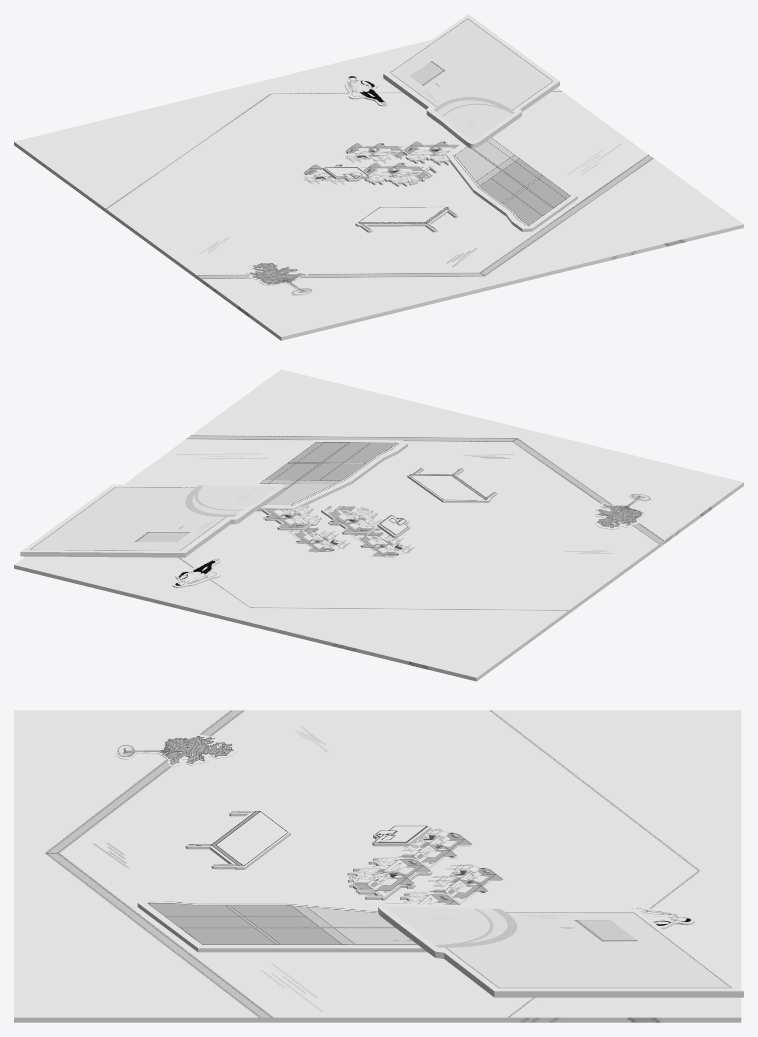
3 renders of one model, top to bottom at view 1: azimuth 30°, elevation 25°; view 2: azimuth 150°, elevation 25°; view 3: azimuth 270°, elevation 25°, orthographic. The views are drawn at different scales.
Visible parts, largest first — view 1: 平面, Curve.006, Curve, Curve.001, Curve.008, 树2.001, Curve.010, Curve.011, 人物1, Curve.002, Curve.009; view 2: 平面, Curve.006, Curve, Curve.001, Curve.008, 树2.001, Curve.011, Curve.010, Curve.009, 人物1, Curve.002; view 3: 平面, Curve.006, Curve, Curve.001, Curve.008, 树2.001, Curve.010, Curve.009, Curve.002, 人物1, Curve.011.
Part boxes in pixels (left/top/right/bottom): 平面: left=14, top=40, right=743, bottom=340; Curve.006: left=383, top=14, right=559, bottom=148; Curve: left=446, top=135, right=577, bottom=231; Curve.001: left=355, top=206, right=458, bottom=232; Curve.008: left=363, top=162, right=437, bottom=186; 树2.001: left=246, top=261, right=314, bottom=295; Curve.010: left=343, top=142, right=408, bottom=163; Curve.011: left=403, top=141, right=460, bottom=165; 人物1: left=344, top=75, right=387, bottom=106; Curve.002: left=323, top=166, right=370, bottom=181; Curve.009: left=302, top=163, right=366, bottom=184; 平面: left=14, top=369, right=743, bottom=681; Curve.006: left=20, top=483, right=284, bottom=557; Curve: left=252, top=440, right=407, bottom=511; Curve.001: left=407, top=467, right=497, bottom=502; Curve.008: left=321, top=505, right=382, bottom=534; 树2.001: left=594, top=493, right=652, bottom=529; Curve.011: left=262, top=504, right=321, bottom=530; Curve.010: left=286, top=526, right=350, bottom=552; Curve.009: left=351, top=531, right=415, bottom=557; 人物1: left=172, top=558, right=220, bottom=587; Curve.002: left=377, top=514, right=410, bottom=538; 平面: left=14, top=710, right=741, bottom=1022; Curve.006: left=378, top=904, right=743, bottom=997; Curve: left=137, top=898, right=427, bottom=952; Curve.001: left=185, top=809, right=290, bottom=869; Curve.008: left=347, top=856, right=432, bottom=900; 树2.001: left=115, top=734, right=238, bottom=766; Curve.010: left=427, top=863, right=504, bottom=904; Curve.009: left=396, top=828, right=473, bottom=868; Curve.002: left=372, top=825, right=431, bottom=846; 人物1: left=626, top=905, right=694, bottom=929; Curve.011: left=384, top=891, right=461, bottom=904.
Bounding box in the file's own units: 0.4495 × 0.0213 × 0.4512.
18 materials, 18 textured.
